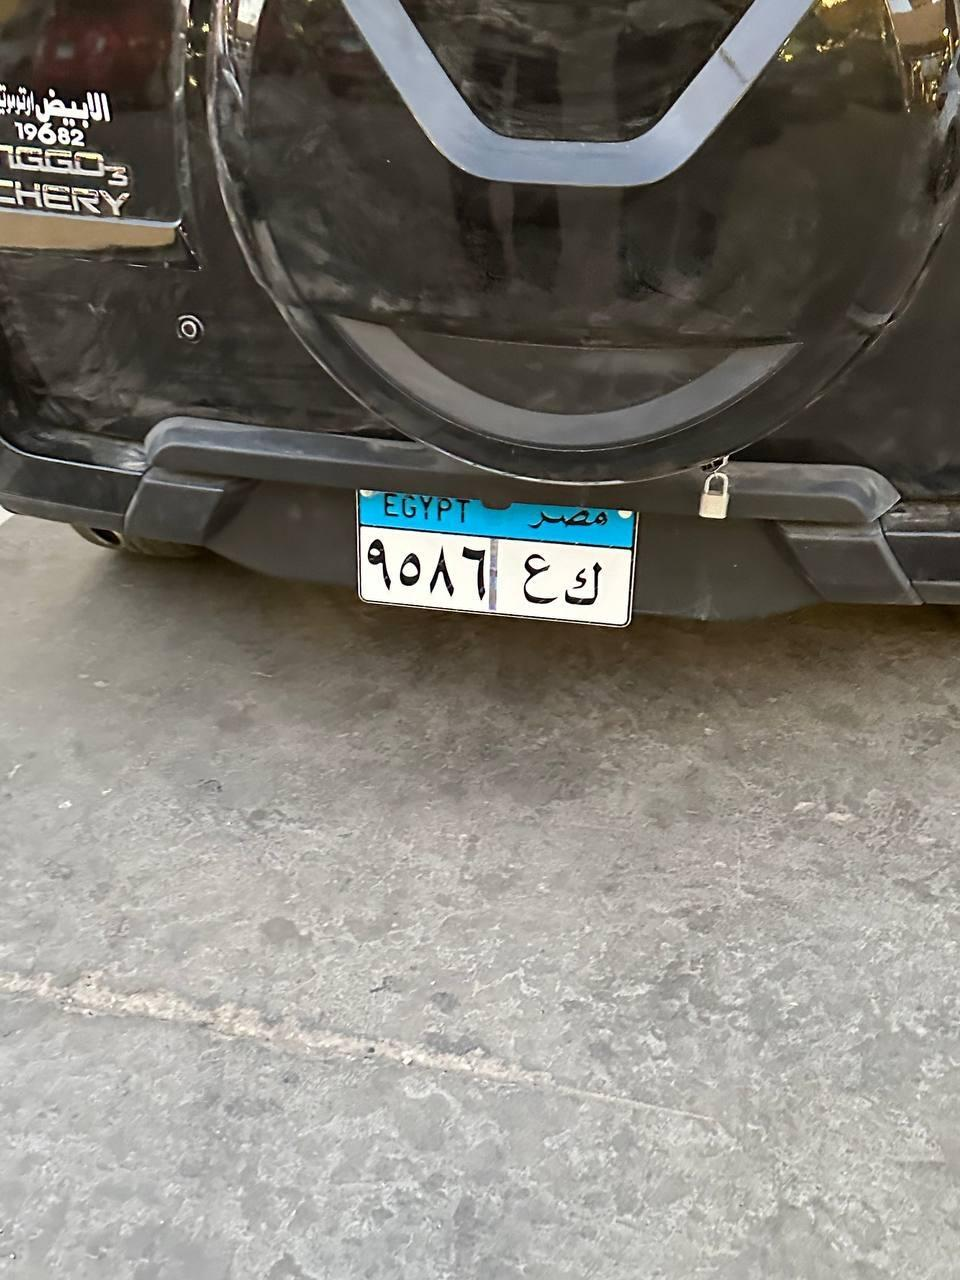5: (396, 546, 433, 597)
6: (458, 540, 490, 588)
8: (428, 544, 462, 600)
9: (366, 535, 396, 597)
Een: (518, 546, 555, 610)
Kaaf: (558, 555, 610, 614)
License Plate: (354, 482, 642, 625)
